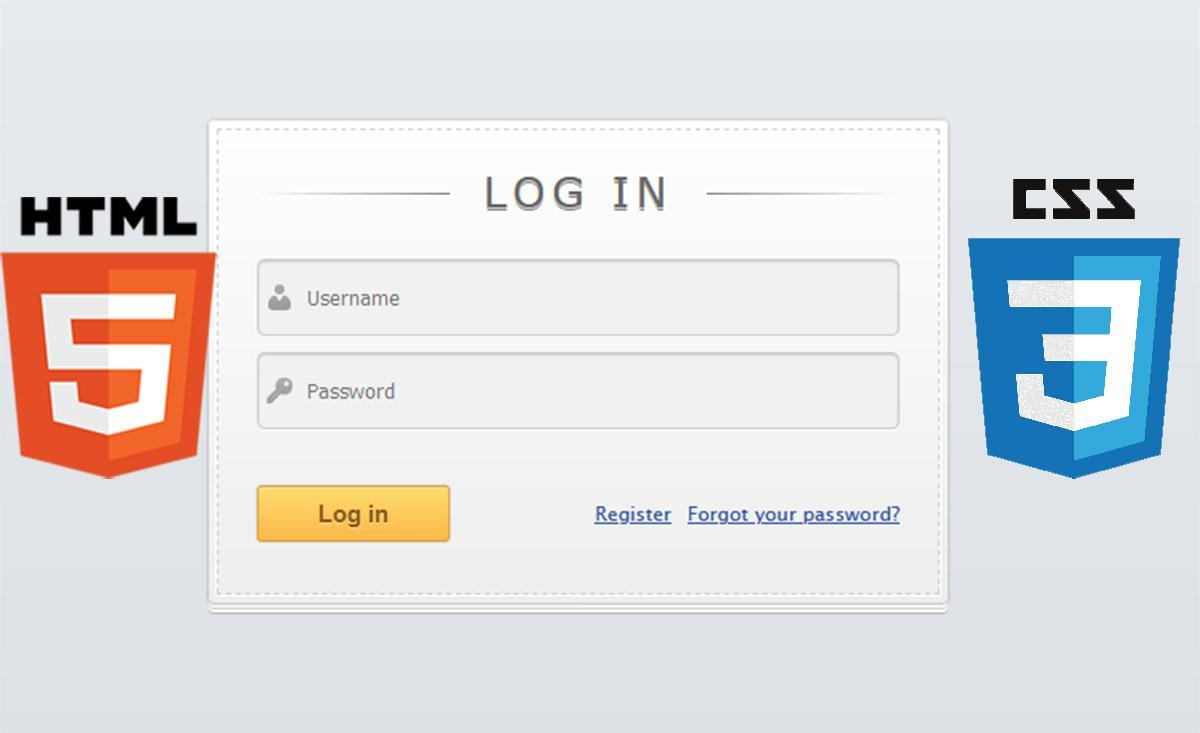button: (255, 484, 453, 545)
icon: (261, 359, 299, 414), (265, 273, 298, 318)
input: (257, 259, 899, 336), (258, 354, 901, 429)
